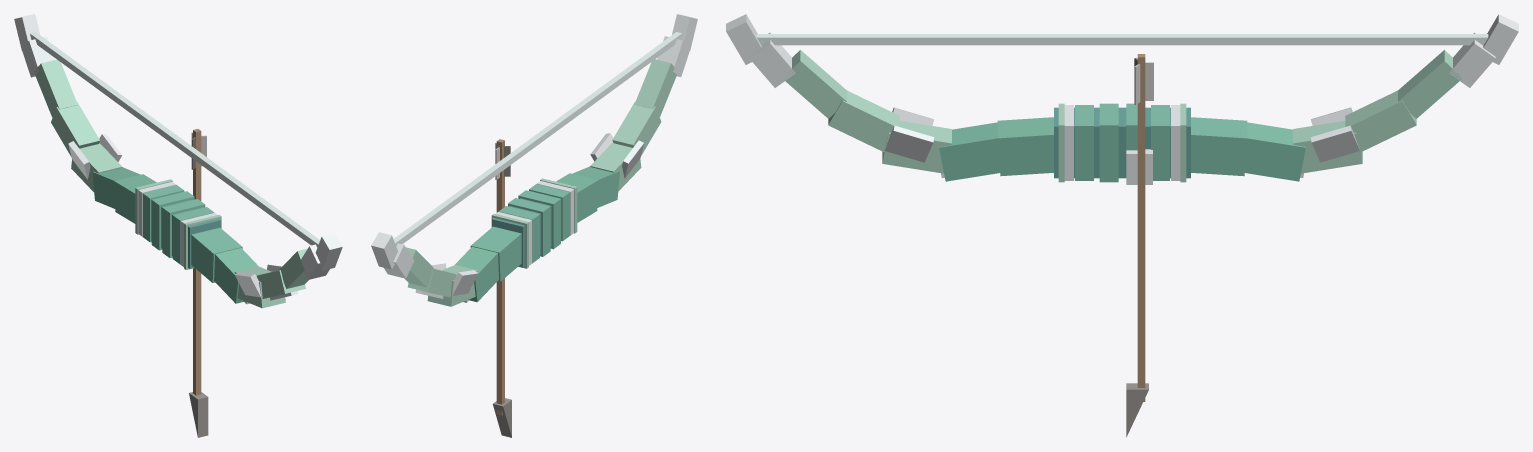
Rendered from art_gale_force_composite.fbx.
3 renders of one model, left to right at view 1: azimuth 30°, elevation 25°; view 2: azimuth 150°, elevation 25°; view 3: azimuth 270°, elevation 25°, orthographic. The views are drawn at different scales.
Visible parts, largest first — view 1: BowString, ArrowShaft, LimbL_1, LimbU_5, LimbU_4, LimbL_2, LimbU_1, LimbU_3, LimbU_2, JadeWrap_2, JadeWrap_3, JadeWrap_1 (+14 smaller); view 2: BowString, ArrowShaft, LimbU_1, LimbL_4, LimbL_5, LimbU_2, LimbL_1, LimbL_3, LimbL_2, JadeWrap_3, JadeWrap_2, JadeWrap_4 (+14 smaller); view 3: BowString, LimbL_1, LimbU_1, ArrowShaft, LimbL_2, LimbU_2, LimbL_4, LimbU_4, Handle, LimbU_5, LimbL_5, JadeWrap_3 (+12 smaller).
Boxes of the visible parts, x1=… form: BowString: x1=30, y1=32, x2=320, y2=247; ArrowShaft: x1=193, y1=129, x2=201, y2=395; LimbL_1: x1=191, y1=227, x2=242, y2=282; LimbU_5: x1=34, y1=59, x2=77, y2=117; LimbU_4: x1=51, y1=102, x2=100, y2=156; LimbL_2: x1=214, y1=248, x2=258, y2=303; LimbU_1: x1=114, y1=174, x2=156, y2=223; LimbU_3: x1=71, y1=143, x2=122, y2=192; LimbU_2: x1=92, y1=167, x2=140, y2=208; JadeWrap_2: x1=151, y1=191, x2=194, y2=250; JadeWrap_3: x1=162, y1=199, x2=205, y2=258; JadeWrap_1: x1=142, y1=185, x2=184, y2=242; BowString: x1=393, y1=32, x2=682, y2=246; ArrowShaft: x1=496, y1=139, x2=504, y2=415; LimbU_1: x1=470, y1=226, x2=521, y2=281; LimbL_4: x1=612, y1=101, x2=661, y2=155; LimbL_5: x1=634, y1=59, x2=676, y2=116; LimbU_2: x1=455, y1=246, x2=498, y2=302; LimbL_1: x1=556, y1=173, x2=598, y2=222; LimbL_3: x1=590, y1=142, x2=641, y2=191; LimbL_2: x1=572, y1=166, x2=619, y2=207; JadeWrap_3: x1=518, y1=190, x2=560, y2=249; JadeWrap_2: x1=508, y1=198, x2=550, y2=256; JadeWrap_4: x1=529, y1=184, x2=570, y2=241; BowString: x1=756, y1=34, x2=1488, y2=45; LimbL_1: x1=997, y1=117, x2=1053, y2=176; LimbU_1: x1=1191, y1=117, x2=1247, y2=176; ArrowShaft: x1=1137, y1=54, x2=1145, y2=401; LimbL_2: x1=939, y1=122, x2=999, y2=181; LimbU_2: x1=1245, y1=122, x2=1305, y2=181; LimbL_4: x1=828, y1=90, x2=899, y2=151; LimbU_4: x1=1345, y1=90, x2=1416, y2=151; Handle: x1=1054, y1=107, x2=1190, y2=178; LimbU_5: x1=1398, y1=50, x2=1462, y2=118; LimbL_5: x1=785, y1=50, x2=846, y2=118; JadeWrap_3: x1=1099, y1=103, x2=1118, y2=182.
Size of the model in its own units: 0.4046 by 2.33 by 4.17.
